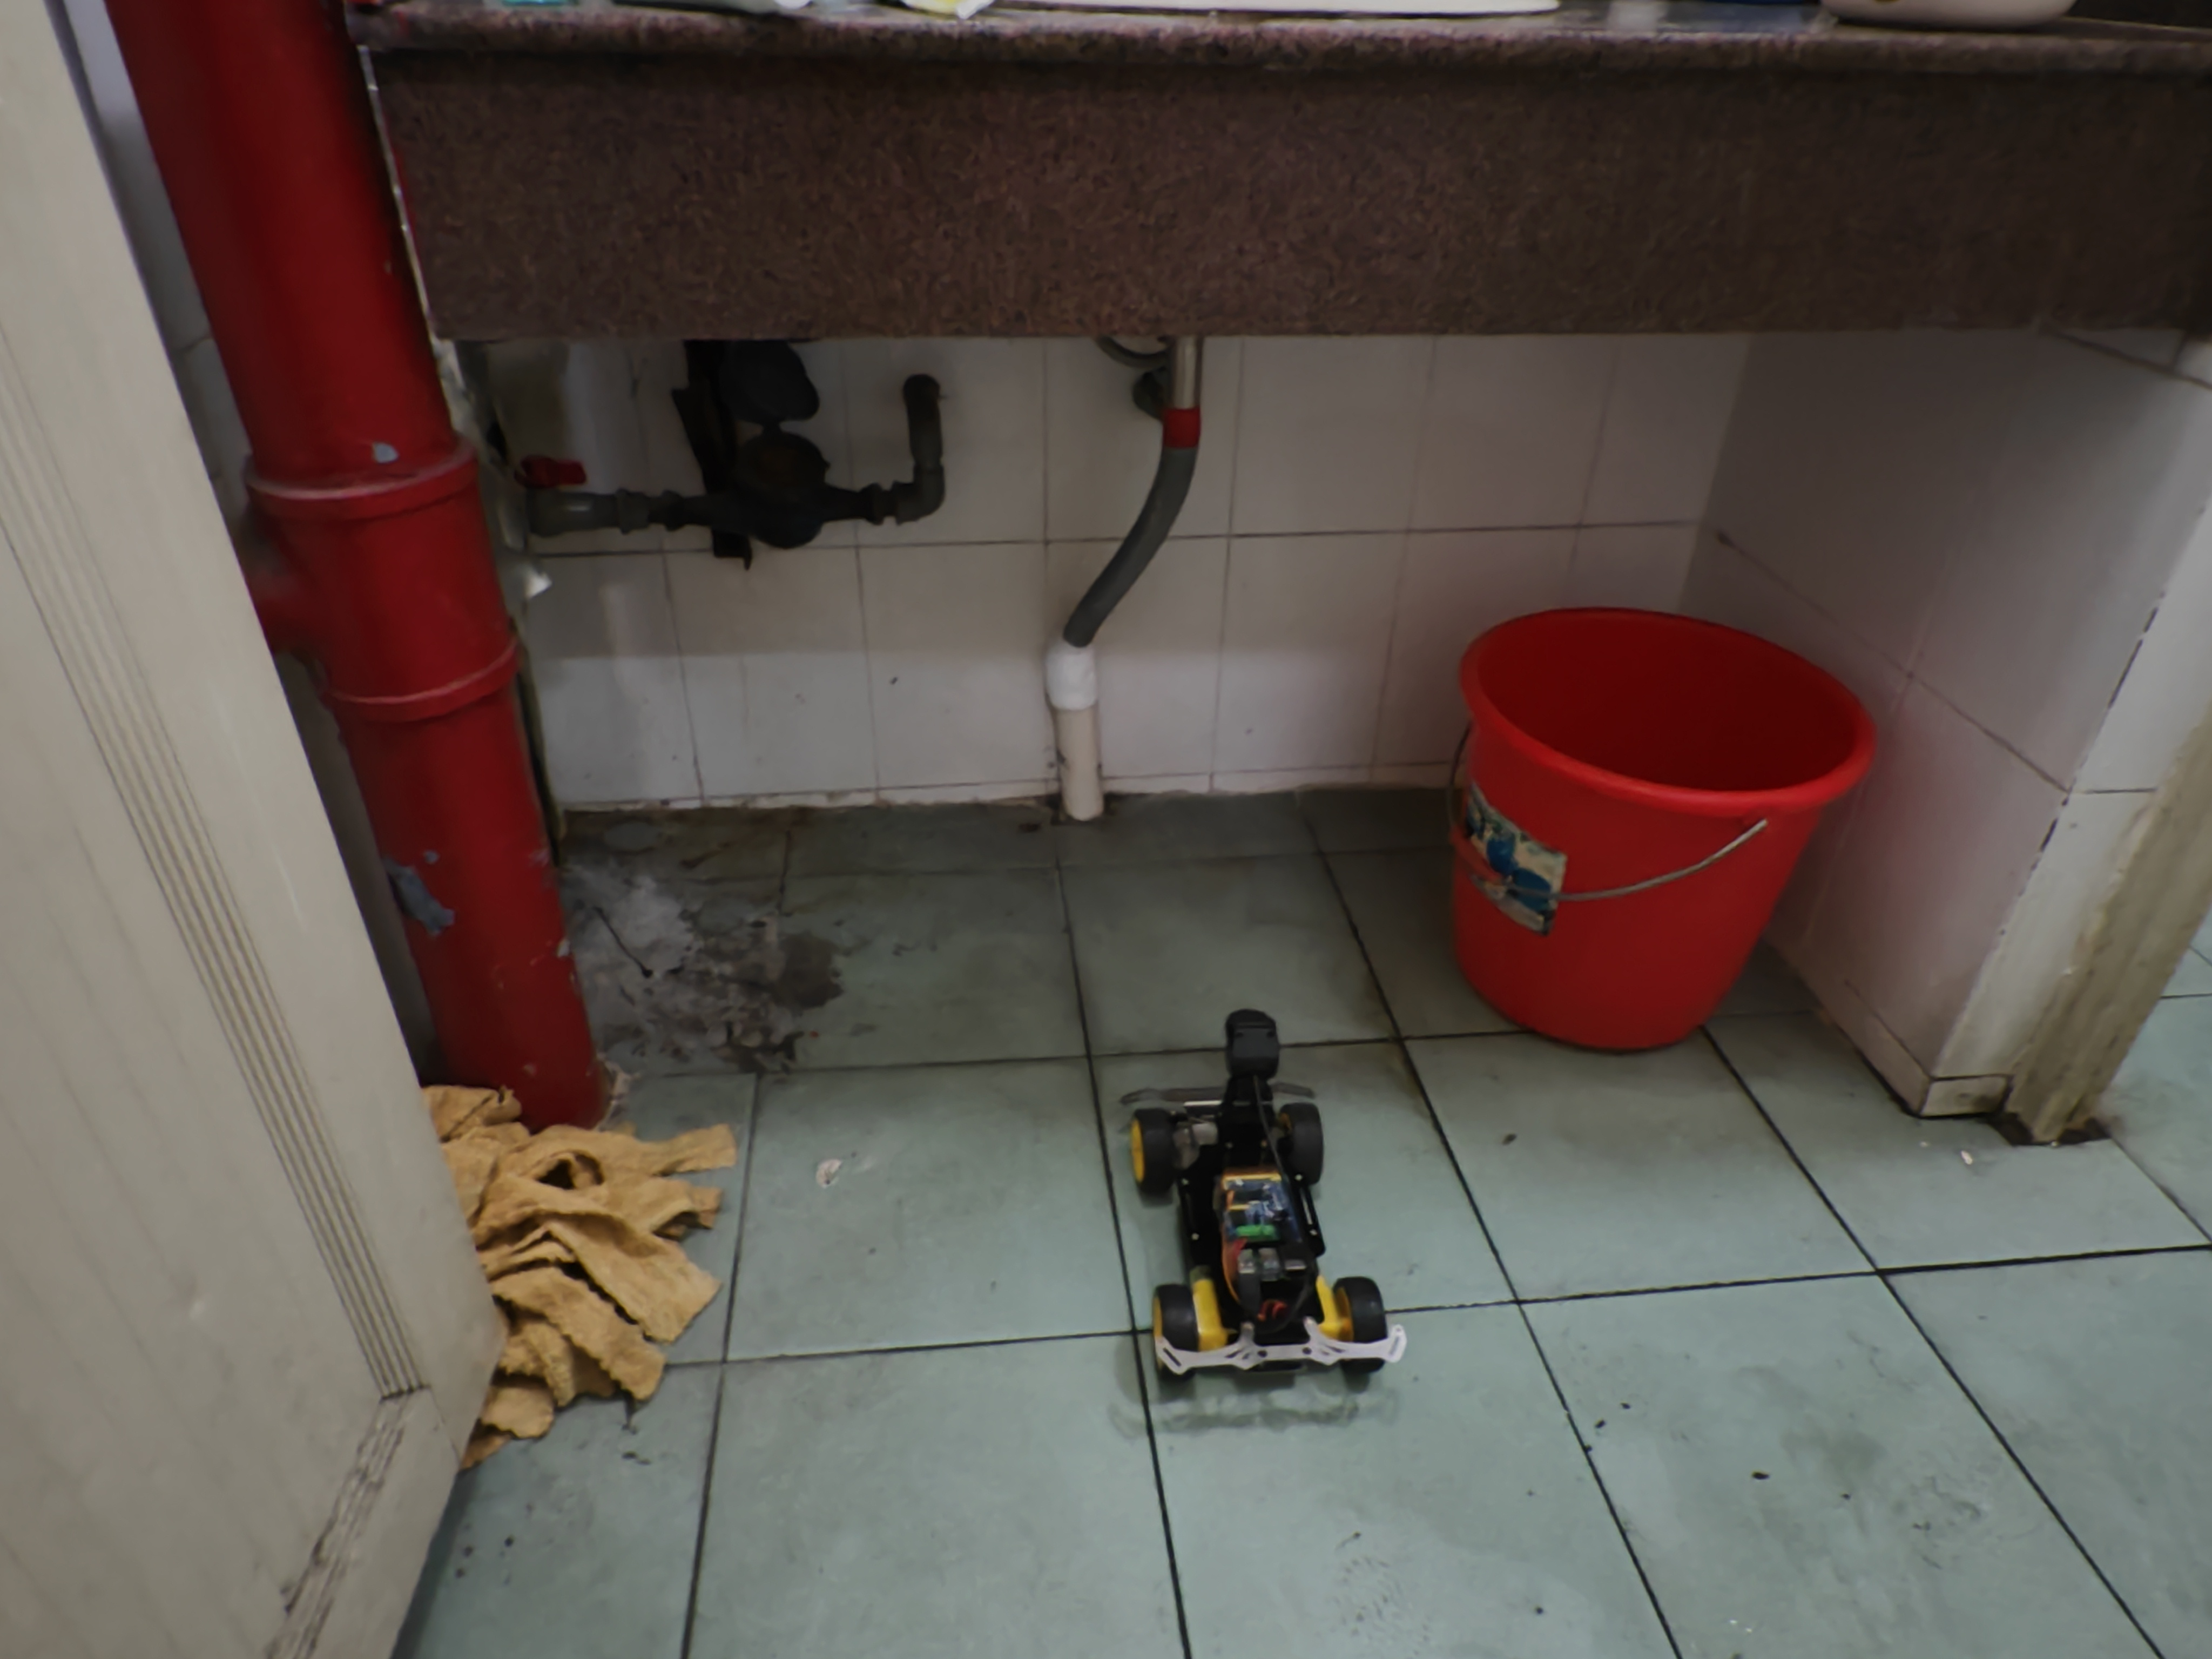car: (1104, 1007, 1404, 1408)
